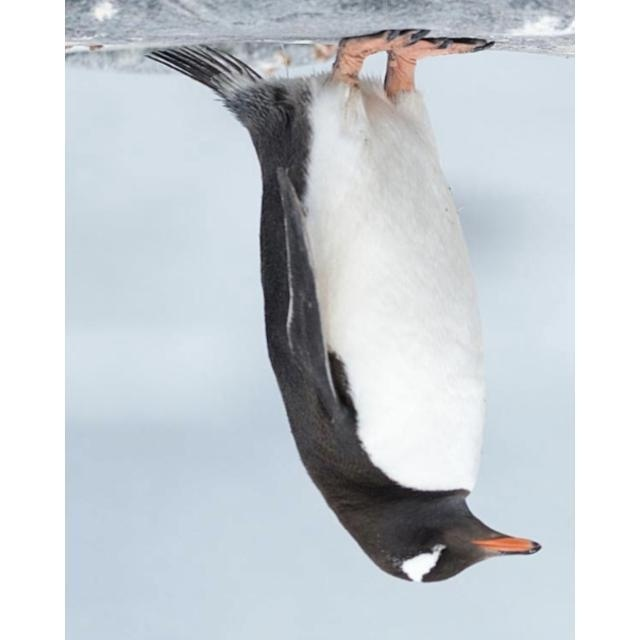penguin: (147, 28, 542, 583)
